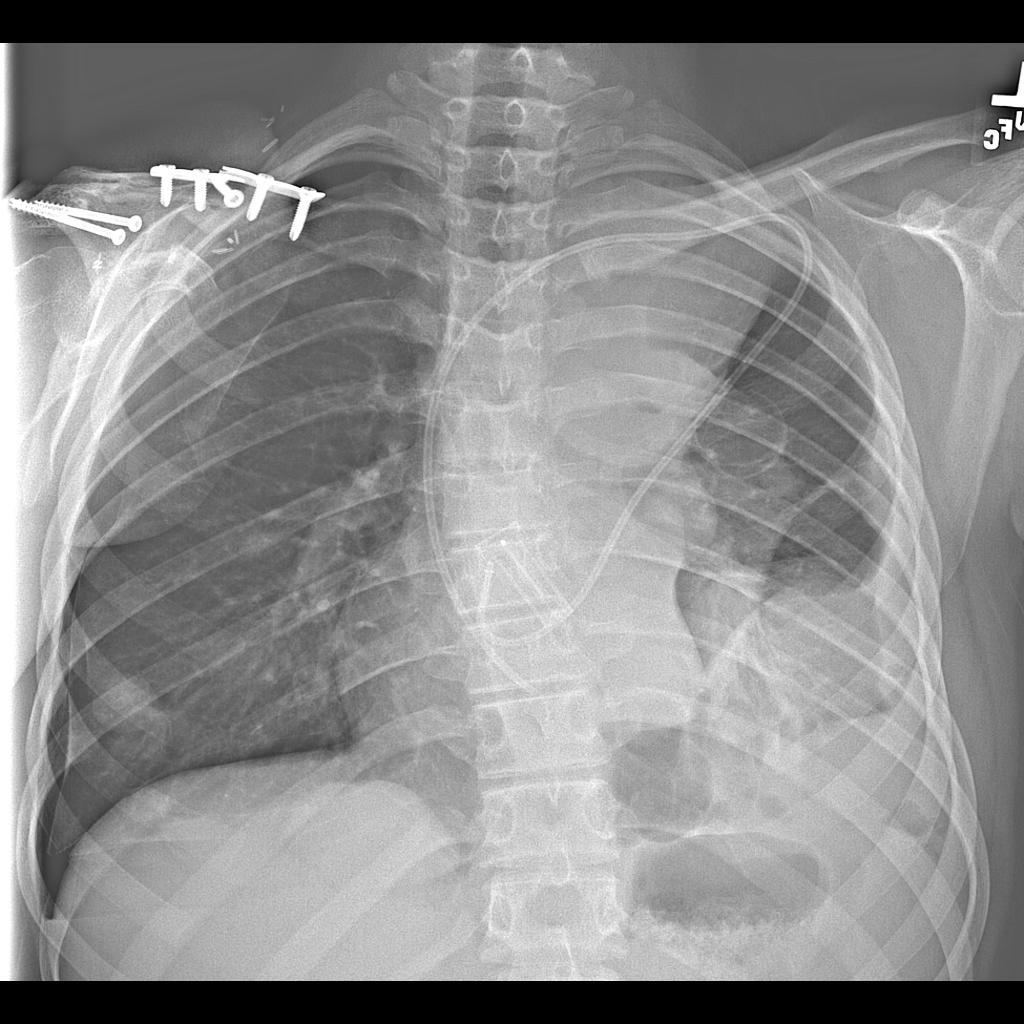Nodule: (81, 664, 168, 754)
